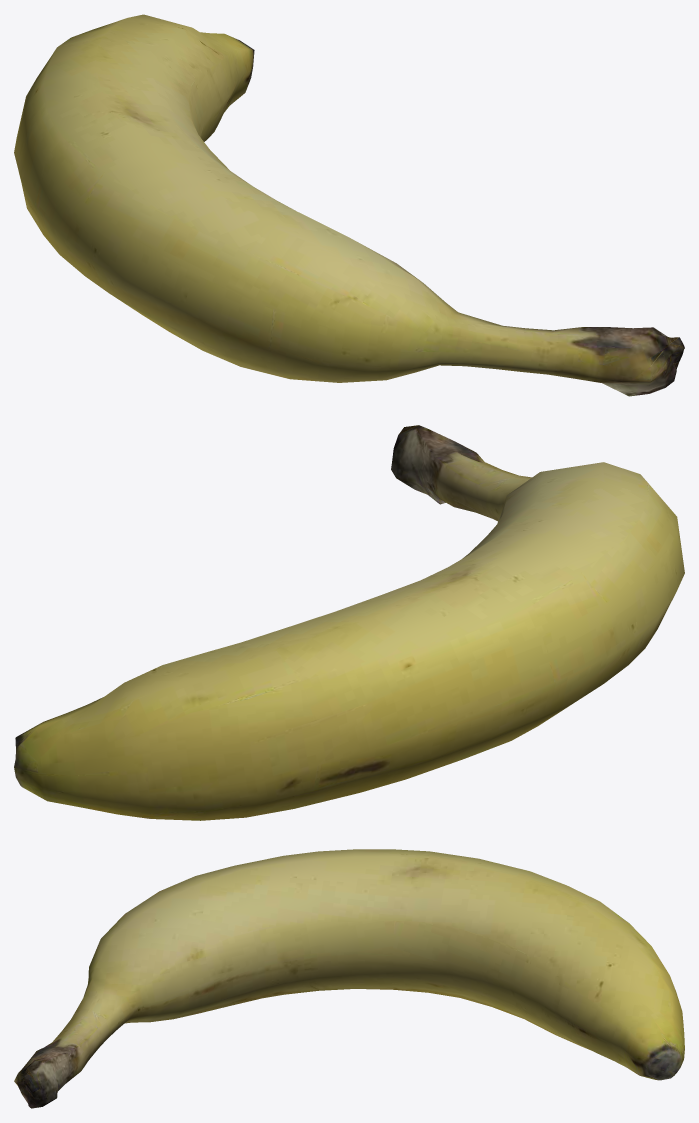
Rendered from banana_54a13e43_visual.obj.
3 renders of one model, top to bottom at view 1: azimuth 30°, elevation 25°; view 2: azimuth 150°, elevation 25°; view 3: azimuth 270°, elevation 25°, orthographic. The views are drawn at different scales.
Size of the model in its own units: 0.0969 by 0.04 by 0.1746.
Materials: 1 (1 with a texture image).
